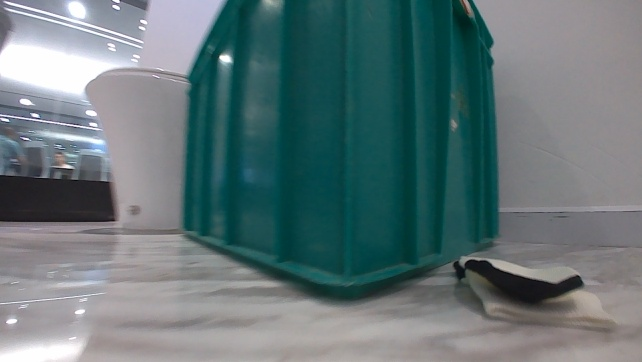socks: (450, 252, 617, 331)
toilet: (82, 64, 190, 235)
